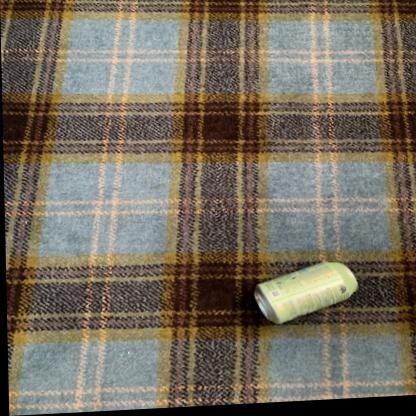trash: (254, 262, 357, 323)
